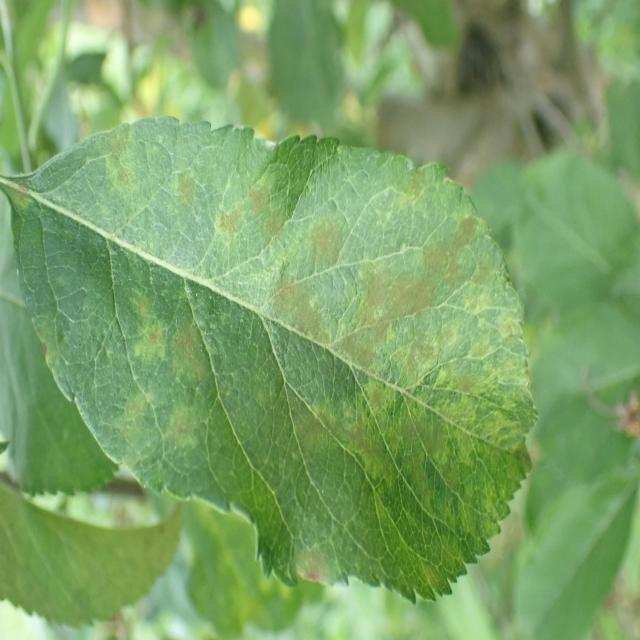scab: (0, 103, 521, 545)
